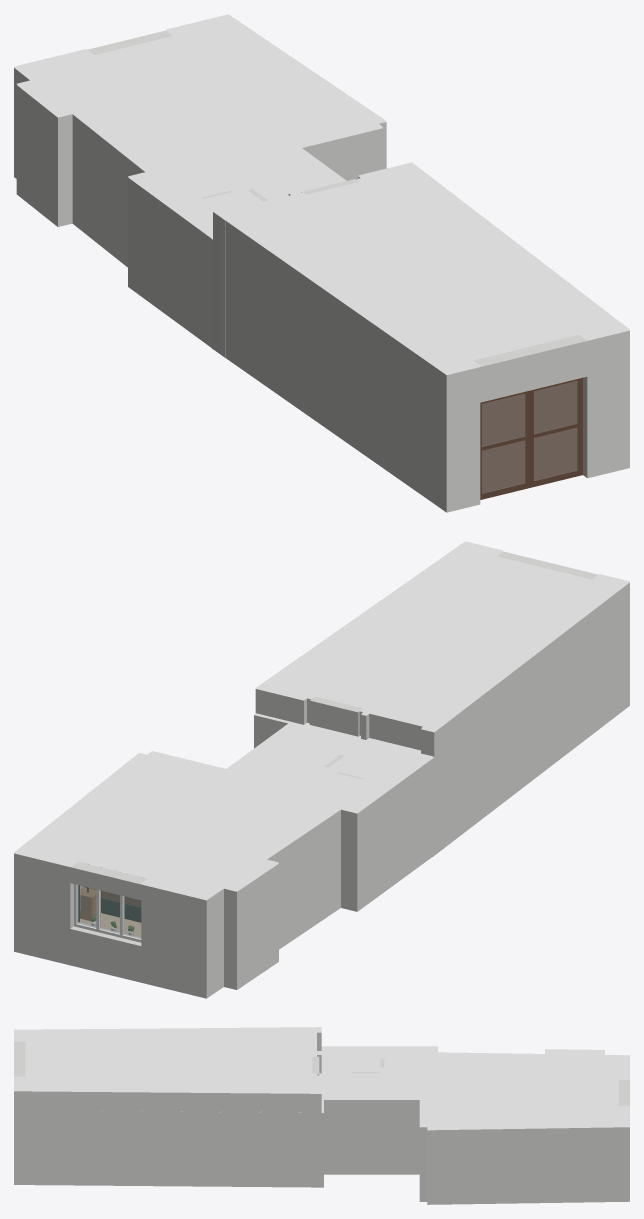
The model's file is byt-v21-web-meshopt.glb.
3 renders of one model, top to bottom at view 1: azimuth 30°, elevation 25°; view 2: azimuth 150°, elevation 25°; view 3: azimuth 270°, elevation 25°, orthographic. The views are drawn at different scales.
Visible parts, largest first — view 1: zdi, strop_obyvak, strop_loznice, strop_nad_zdmi, vstupni_dvere, strop_chodba, strop_koupelna; view 2: zdi, strop_obyvak, strop_loznice, strop_nad_zdmi, strop_chodba, strop_koupelna, okno_loznice, postel_GROCI; view 3: zdi, strop_obyvak, strop_loznice, strop_nad_zdmi, strop_chodba, strop_koupelna.
Part boxes in pixels (<box>): zdi: <box>14,30,629,512</box>; strop_obyvak: <box>235,171,606,364</box>; strop_loznice: <box>37,24,362,171</box>; strop_nad_zdmi: <box>14,14,629,374</box>; vstupni_dvere: <box>480,377,582,499</box>; strop_chodba: <box>214,144,331,200</box>; strop_koupelna: <box>151,164,262,223</box>; zdi: <box>14,551,629,998</box>; strop_obyvak: <box>275,550,609,723</box>; strop_loznice: <box>34,759,331,890</box>; strop_nad_zdmi: <box>14,541,629,900</box>; strop_chodba: <box>232,722,360,791</box>; strop_koupelna: <box>297,738,420,803</box>; okno_loznice: <box>74,884,141,942</box>; postel_GROCI: <box>84,886,141,922</box>; zdi: <box>14,1032,629,1204</box>; strop_obyvak: <box>25,1032,312,1088</box>; strop_loznice: <box>431,1054,618,1124</box>; strop_nad_zdmi: <box>14,1027,629,1130</box>; strop_chodba: <box>319,1073,430,1094</box>; strop_koupelna: <box>317,1051,426,1071</box>.
Bounding box in the file's own units: 5.16 × 2.74 × 16.1.
